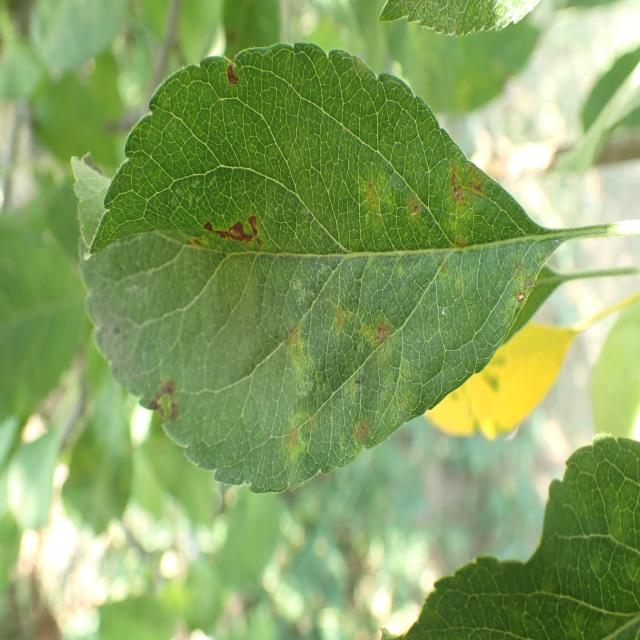scab: (118, 57, 532, 489)
